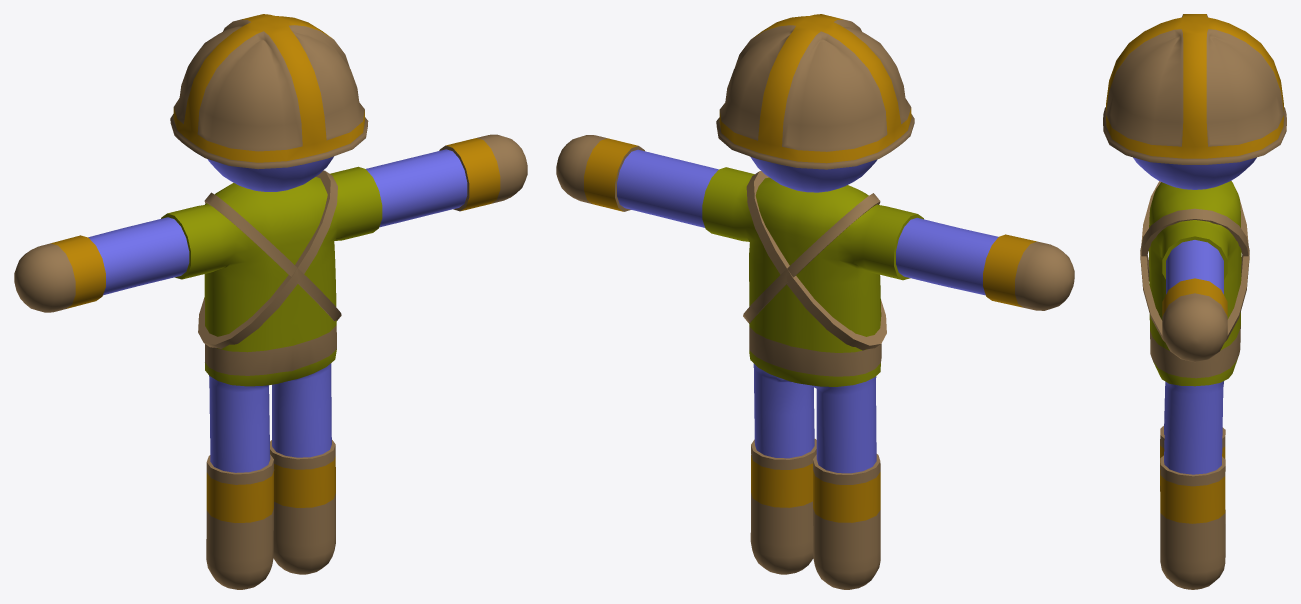
File: Troop.fbx
3 renders of one model, left to right at view 1: azimuth 30°, elevation 25°; view 2: azimuth 150°, elevation 25°; view 3: azimuth 270°, elevation 25°, orthographic.
Parts seen in each view (by area): view 1: Mesh_Char1, Mesh_pasted__hat1, Mesh_Char, pCylinder1; view 2: Mesh_Char1, Mesh_pasted__hat1, Mesh_Char, pCylinder1; view 3: Mesh_pasted__hat1, Mesh_Char1, Mesh_Char, pCylinder1.
Part boxes in pixels (bbox=[...]): Mesh_Char1: bbox=[14, 134, 527, 589]; Mesh_pasted__hat1: bbox=[170, 14, 368, 169]; Mesh_Char: bbox=[88, 149, 467, 472]; pCylinder1: bbox=[198, 170, 341, 348]; Mesh_Char1: bbox=[556, 135, 1074, 589]; Mesh_pasted__hat1: bbox=[716, 14, 914, 169]; Mesh_Char: bbox=[617, 149, 998, 473]; pCylinder1: bbox=[743, 171, 886, 350]; Mesh_pasted__hat1: bbox=[1103, 14, 1286, 164]; Mesh_Char1: bbox=[1148, 181, 1241, 589]; Mesh_Char: bbox=[1133, 157, 1256, 474]; pCylinder1: bbox=[1140, 181, 1249, 341].
Size of the model in its own units: 312 by 327 by 99.52.
